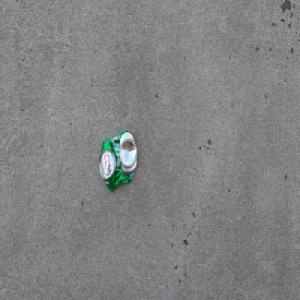SodaCan: (98, 129, 138, 192)
